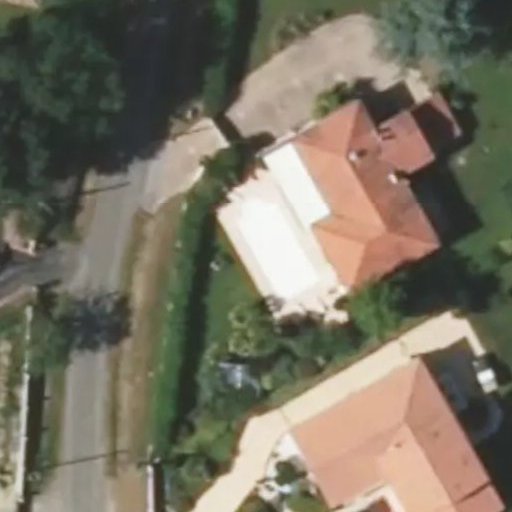pool: (214, 216, 297, 267)
